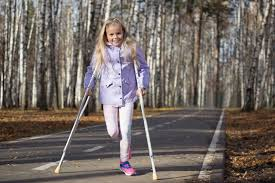crutches: (55, 18, 158, 180)
